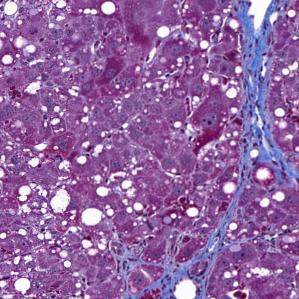fibrosis: (235, 13, 275, 176)
